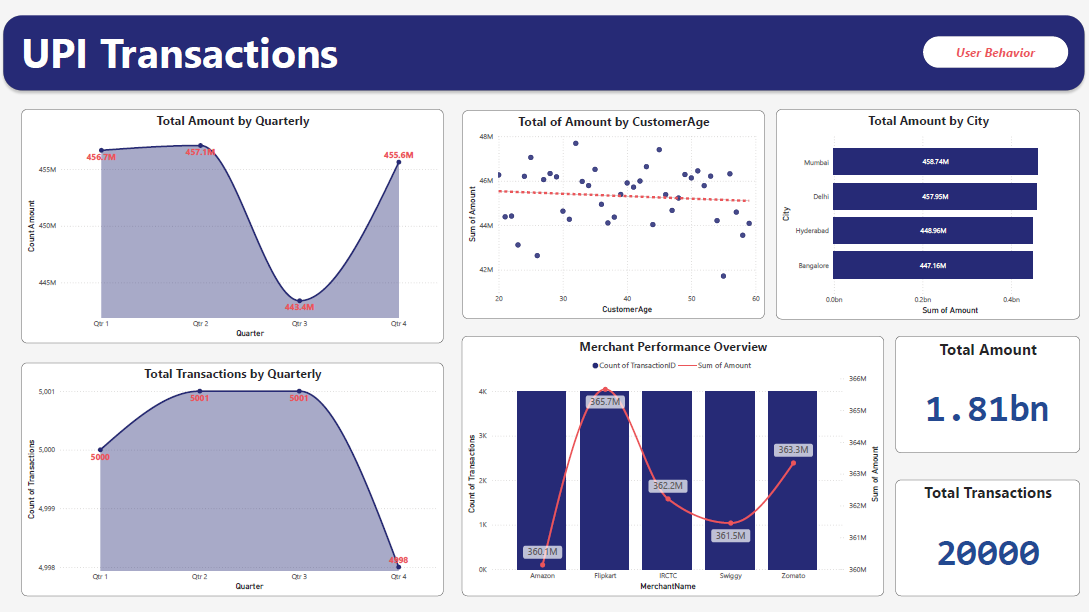

This screenshot's page, from the dashboard's own definition file:
{"tool":"powerbi","page":{"name":"Transactions Trends","canvas":[1920,1080],"ordinal":1},"visuals":[{"type":"lineChart","title":"Total Amount by Quarterly","fields":{"Category":["df_transactions.TransactionDate.Variation.Date Hierarchy.Quarter"],"Y":["Sum(df_transactions.Amount)"]},"box":[40,191.2,742.5,411.8],"z":0,"group":"g1"},{"type":"shape","box":[0,16.7,1920,150],"z":1000},{"type":"lineChart","title":"Total Transactions by Quarterly","fields":{"Category":["df_transactions.TransactionDate.Variation.Date Hierarchy.Quarter"],"Y":["CountNonNull(df_transactions.TransactionID)"]},"box":[40,636.9,742.5,411.8],"z":2000,"group":"g1"},{"type":"lineStackedColumnComboChart","title":"Merchant Performance Overview","fields":{"Y":["CountNonNull(df_transactions.TransactionID)"],"Category":["df_merchant.MerchantName"],"Y2":["Sum(df_transactions.Amount)"]},"box":[815,590,742.5,458.7],"z":3000,"group":"g1"},{"type":"card","title":"Total Amount","fields":{"Values":["_measure_upi_transactions.sum_amount"]},"box":[1577.5,590,325,205.9],"z":4000,"group":"g1"},{"type":"card","title":"Total Transactions","fields":{"Values":["_measure_upi_transactions.total_transactios"]},"box":[1577.5,842.8,325,205.9],"z":5000,"group":"g1"},{"type":"scatterChart","title":"Total of Amount by CustomerAge","fields":{"Y":["Sum(df_transactions.Amount)"],"X":["df_customer.CustomerAge"]},"box":[816,192.8,532,367],"z":6000,"group":"g1"},{"type":"pageNavigator","box":[1626.7,63.3,255,55],"z":7000},{"type":"barChart","title":"Total Amount by City","fields":{"Y":["Sum(df_transactions.Amount)"],"Category":["df_customer.City"]},"box":[1367.5,191.2,535,370.1],"z":11000,"group":"g1"},{"type":"group","id":"g1","title":"Group 1","box":[40,191.2,1862.5,857.5],"z":11001}]}

Visuals, with their boxes in screenshot pixels (x1, y1, x2, y2), scaled from the page's 1920x1080 canvas onto the 1089x612 screenshot:
"Total Amount by Quarterly" lineChart: x1=23 y1=108 x2=444 y2=342
shape: x1=0 y1=9 x2=1088 y2=94
"Total Transactions by Quarterly" lineChart: x1=23 y1=361 x2=444 y2=594
"Merchant Performance Overview" lineStackedColumnComboChart: x1=462 y1=334 x2=883 y2=594
"Total Amount" card: x1=895 y1=334 x2=1079 y2=451
"Total Transactions" card: x1=895 y1=478 x2=1079 y2=594
"Total of Amount by CustomerAge" scatterChart: x1=463 y1=109 x2=765 y2=317
pageNavigator: x1=923 y1=36 x2=1067 y2=67
"Total Amount by City" barChart: x1=776 y1=108 x2=1079 y2=318
"Group 1" group: x1=23 y1=108 x2=1079 y2=594
